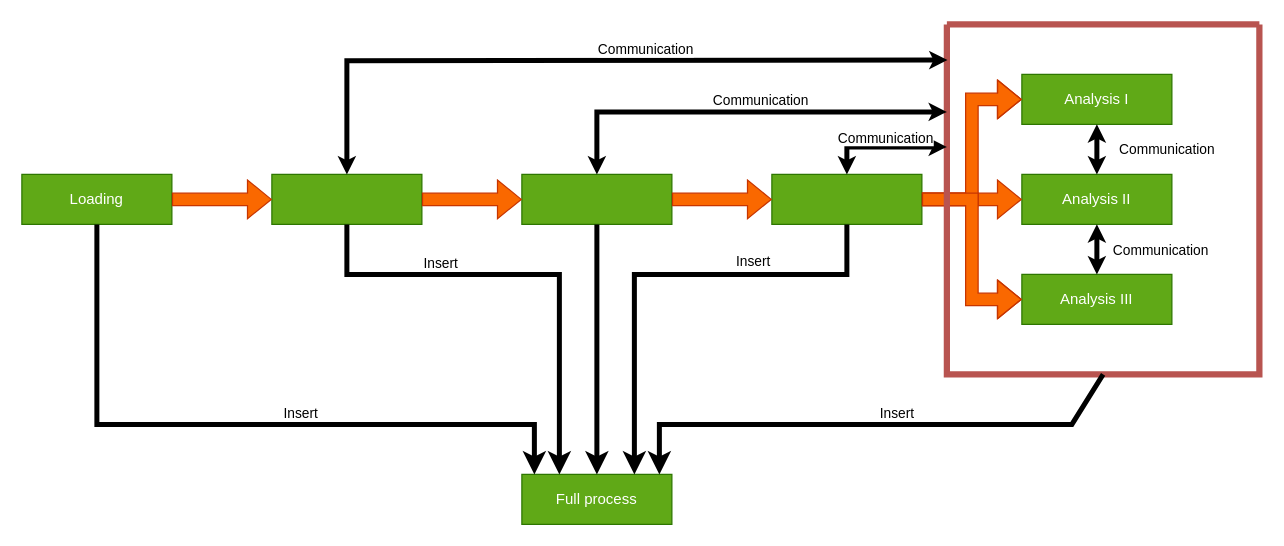
This 1284x546 diagram has some shape labels left out. Here are the shapes that lost their labels. From the top down, the centre of each, then its label:
[346,198]: Cleaning
[596,198]: Augmentation
[846,198]: Data description
